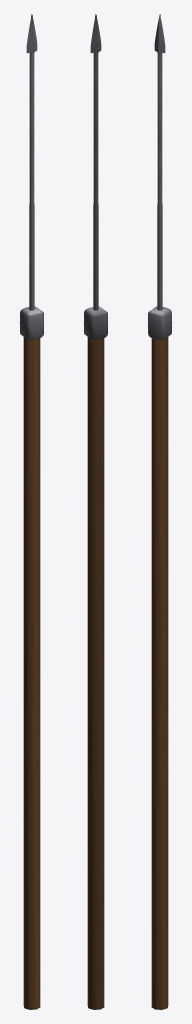
File: pilum.glb
3 renders of one model, left to right at view 1: azimuth 30°, elevation 25°; view 2: azimuth 210°, elevation 25°; view 3: azimuth 330°, elevation 25°, orthographic.
Visible parts, largest first — view 1: pilum; view 2: pilum; view 3: pilum.
Part boxes in pixels (x1,y1,x2,y2): pilum: [19, 14, 44, 1009]; pilum: [83, 14, 108, 1009]; pilum: [147, 14, 172, 1009].
Size of the model in its own units: 0.0388 by 2.12 by 0.0388.
1 material, 1 textured.
